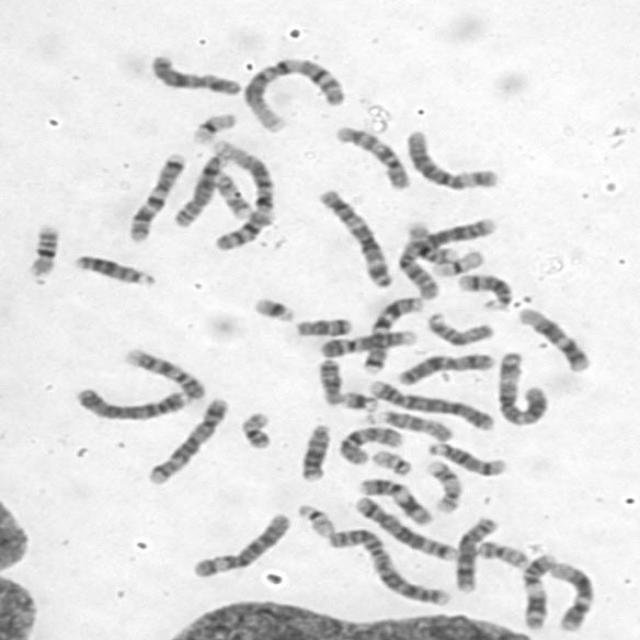A1: (205, 141, 291, 252), (238, 53, 348, 135)
A2: (324, 526, 454, 609), (396, 215, 498, 300)
A3: (312, 184, 394, 289), (493, 348, 550, 426)
B4: (365, 376, 495, 431), (69, 383, 193, 423)
B5: (144, 394, 230, 486), (352, 492, 457, 563)
C10: (331, 122, 411, 191), (336, 422, 404, 467)
C11: (354, 474, 434, 528), (517, 550, 557, 631)
C12: (515, 304, 592, 374), (545, 558, 596, 633)
C6: (188, 510, 292, 580), (403, 127, 500, 191)
C7: (123, 149, 187, 244), (358, 294, 426, 374)
C8: (169, 150, 230, 229), (452, 513, 499, 593)
C9: (121, 344, 207, 400), (314, 327, 418, 359)
D13: (72, 250, 154, 287), (295, 422, 332, 482)
D14: (426, 438, 508, 477), (454, 271, 513, 312)
D15: (364, 407, 454, 443), (426, 310, 496, 347)
E16: (402, 219, 457, 264), (24, 221, 61, 278)
E17: (423, 458, 464, 516), (209, 168, 252, 220)
E18: (315, 355, 345, 406), (291, 314, 353, 338)
F19: (428, 246, 488, 277), (186, 110, 237, 146)
F20: (474, 537, 530, 570), (237, 406, 276, 451)
G21: (250, 292, 297, 322), (340, 388, 379, 413)
G22: (294, 501, 338, 538), (368, 446, 413, 476)
X: (148, 52, 242, 97), (394, 349, 496, 387)
